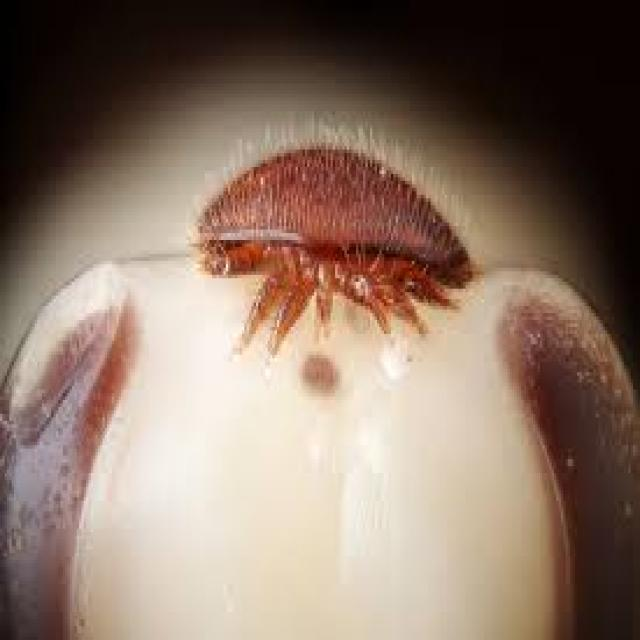Mites: (185, 115, 481, 361)
